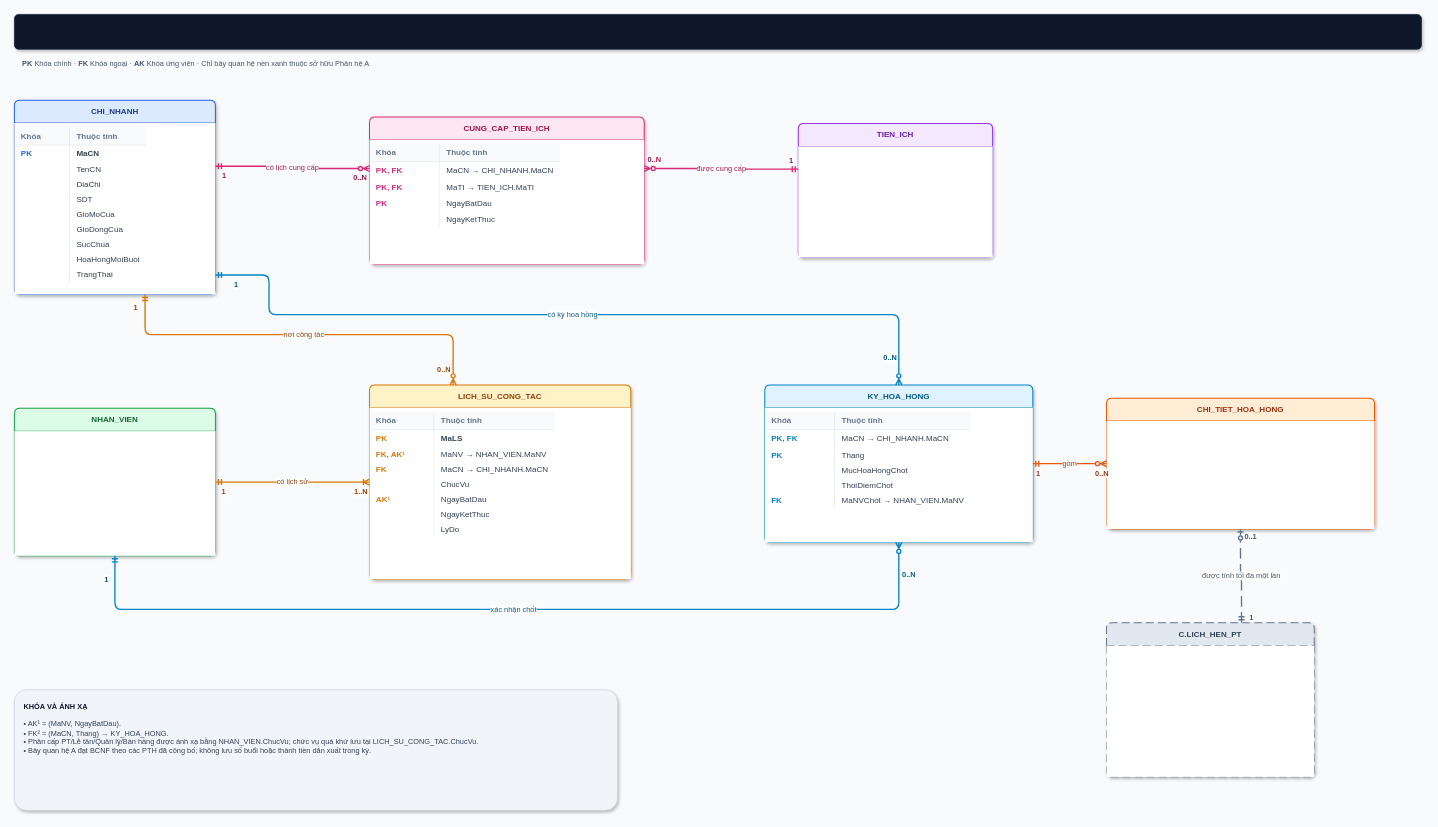
Some shapes in this 1438 by 827 pixel diagram are drawn without their labels. Each missing label, with the centre of its shape:
Khóa Thuộc tính công bố PK MaLichHen MaNV MaCN NgayGio TrangThai: pixel 1210 711
Khóa Thuộc tính PK MaNV HoTen SDT ChucVu LuongCoBan TrangThaiLamViec: pixel 114 493
Khóa Thuộc tính PK MaTI TenTI Loai MoTa TrangThai: pixel 895 201
Khóa Thuộc tính PK, FK MaLichHen → C.LICH_HEN_PT.MaLichHen FK² MaCN FK² Thang: pixel 1240 475
LƯỢC ĐỒ QUAN HỆ — PHÂN HỆ A: CHI NHÁNH & NHÂN SỰ: pixel 718 32
